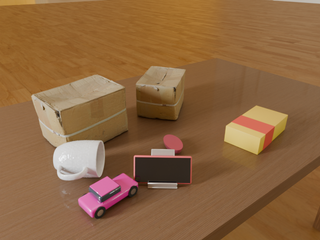box: (32, 75, 128, 147), (224, 106, 288, 154), (136, 66, 186, 120)
cup: (53, 140, 105, 180)
mouse: (164, 135, 183, 154)
phone: (134, 155, 192, 184)
toy_car: (78, 173, 138, 219)
